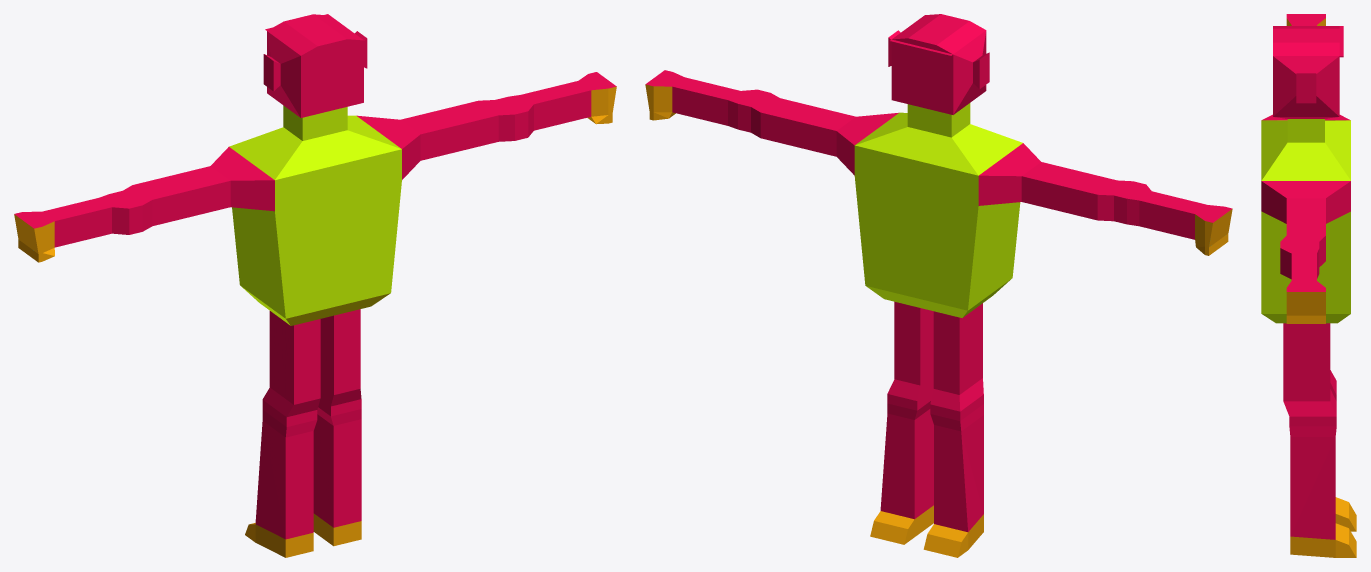
File: ludzik_texture.obj
The picture shows the model from 3 angles, left to right: view 1: azimuth 30°, elevation 25°; view 2: azimuth 150°, elevation 25°; view 3: azimuth 270°, elevation 25°; orthographic projection. The views are drawn at different scales.
Visible parts, largest first — view 1: Cube; view 2: Cube; view 3: Cube.
Part boxes in pixels (x1,y1,x2,y2): Cube: [14, 14, 616, 557]; Cube: [645, 14, 1232, 557]; Cube: [1261, 14, 1356, 557].
Size of the model in its own units: 11.07 by 9.3 by 1.6.
1 material, 1 textured.
